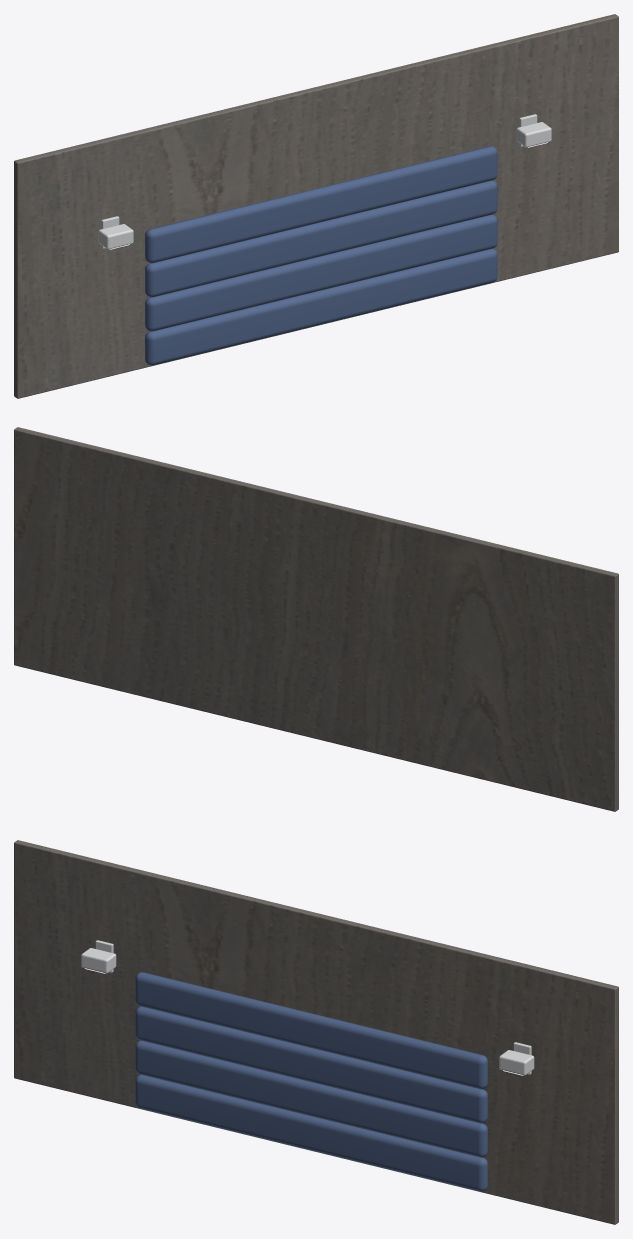
The model's file is hotel-headboard.glb.
The picture shows the model from 3 angles, top to bottom: view 1: azimuth 30°, elevation 25°; view 2: azimuth 150°, elevation 25°; view 3: azimuth 330°, elevation 25°; orthographic projection.
Visible parts, largest first — view 1: panel, channel3, channel0, channel1, channel2, sconce_head, sconce_head.001; view 2: panel; view 3: panel, channel3, channel0, channel1, channel2, sconce_head.001, sconce_head.
Boxes of the visible parts, <box> form: panel: <box>14,14,618,398</box>; channel3: <box>145,146,497,263</box>; channel0: <box>145,248,497,365</box>; channel1: <box>145,214,497,331</box>; channel2: <box>145,180,497,297</box>; sconce_head: <box>98,224,133,249</box>; sconce_head.001: <box>516,122,551,147</box>; panel: <box>14,427,618,811</box>; panel: <box>14,840,618,1224</box>; channel3: <box>135,972,487,1089</box>; channel0: <box>135,1074,487,1191</box>; channel1: <box>135,1040,487,1157</box>; channel2: <box>135,1006,487,1123</box>; sconce_head.001: <box>499,1050,534,1075</box>; sconce_head: <box>81,948,116,973</box>.
Size of the model in its own units: 3.6 by 1.35 by 0.16.
Materials: 4 (1 with a texture image).
